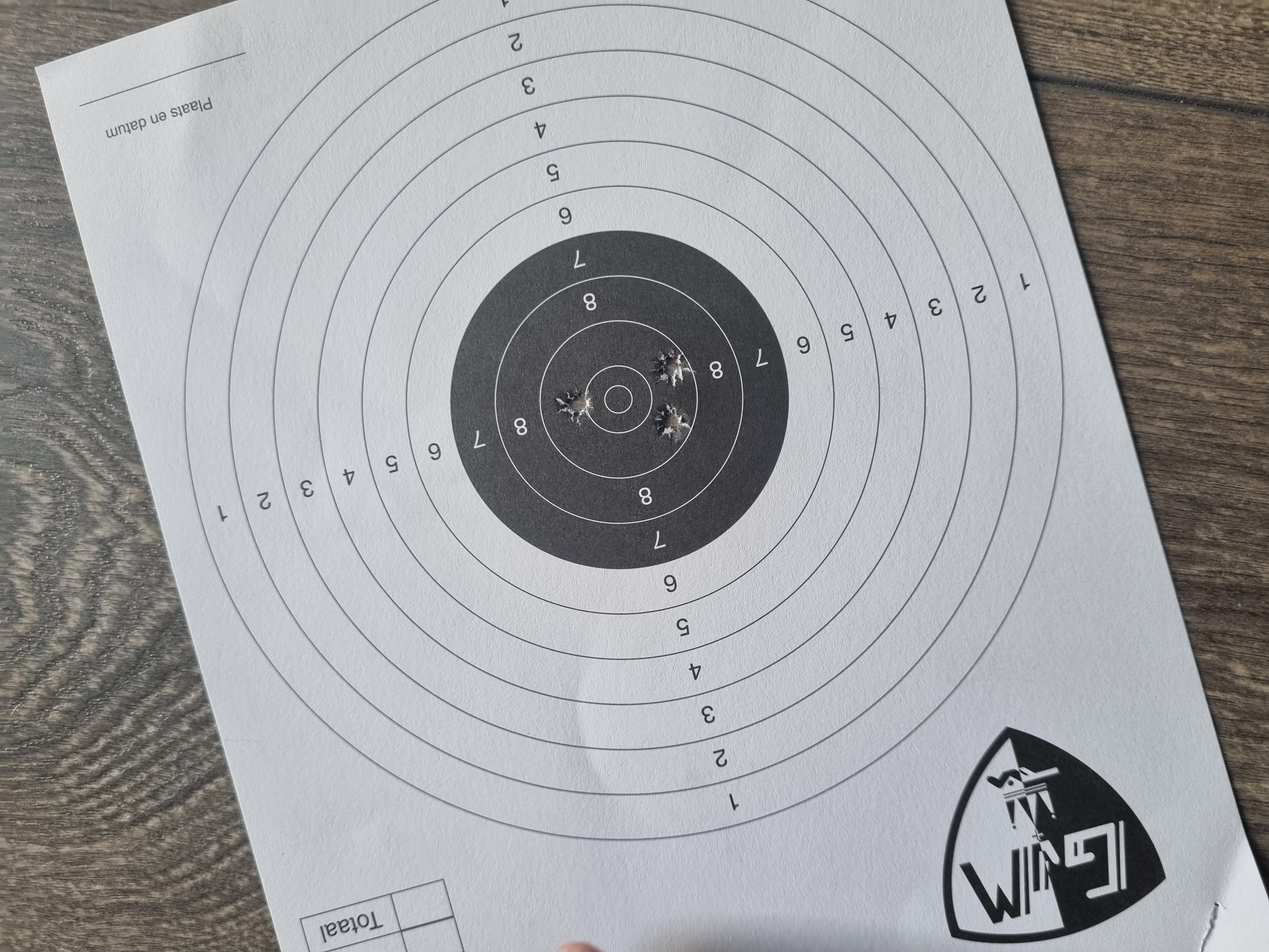hole: (754, 489, 806, 517), (680, 490, 730, 519), (702, 417, 755, 444)
